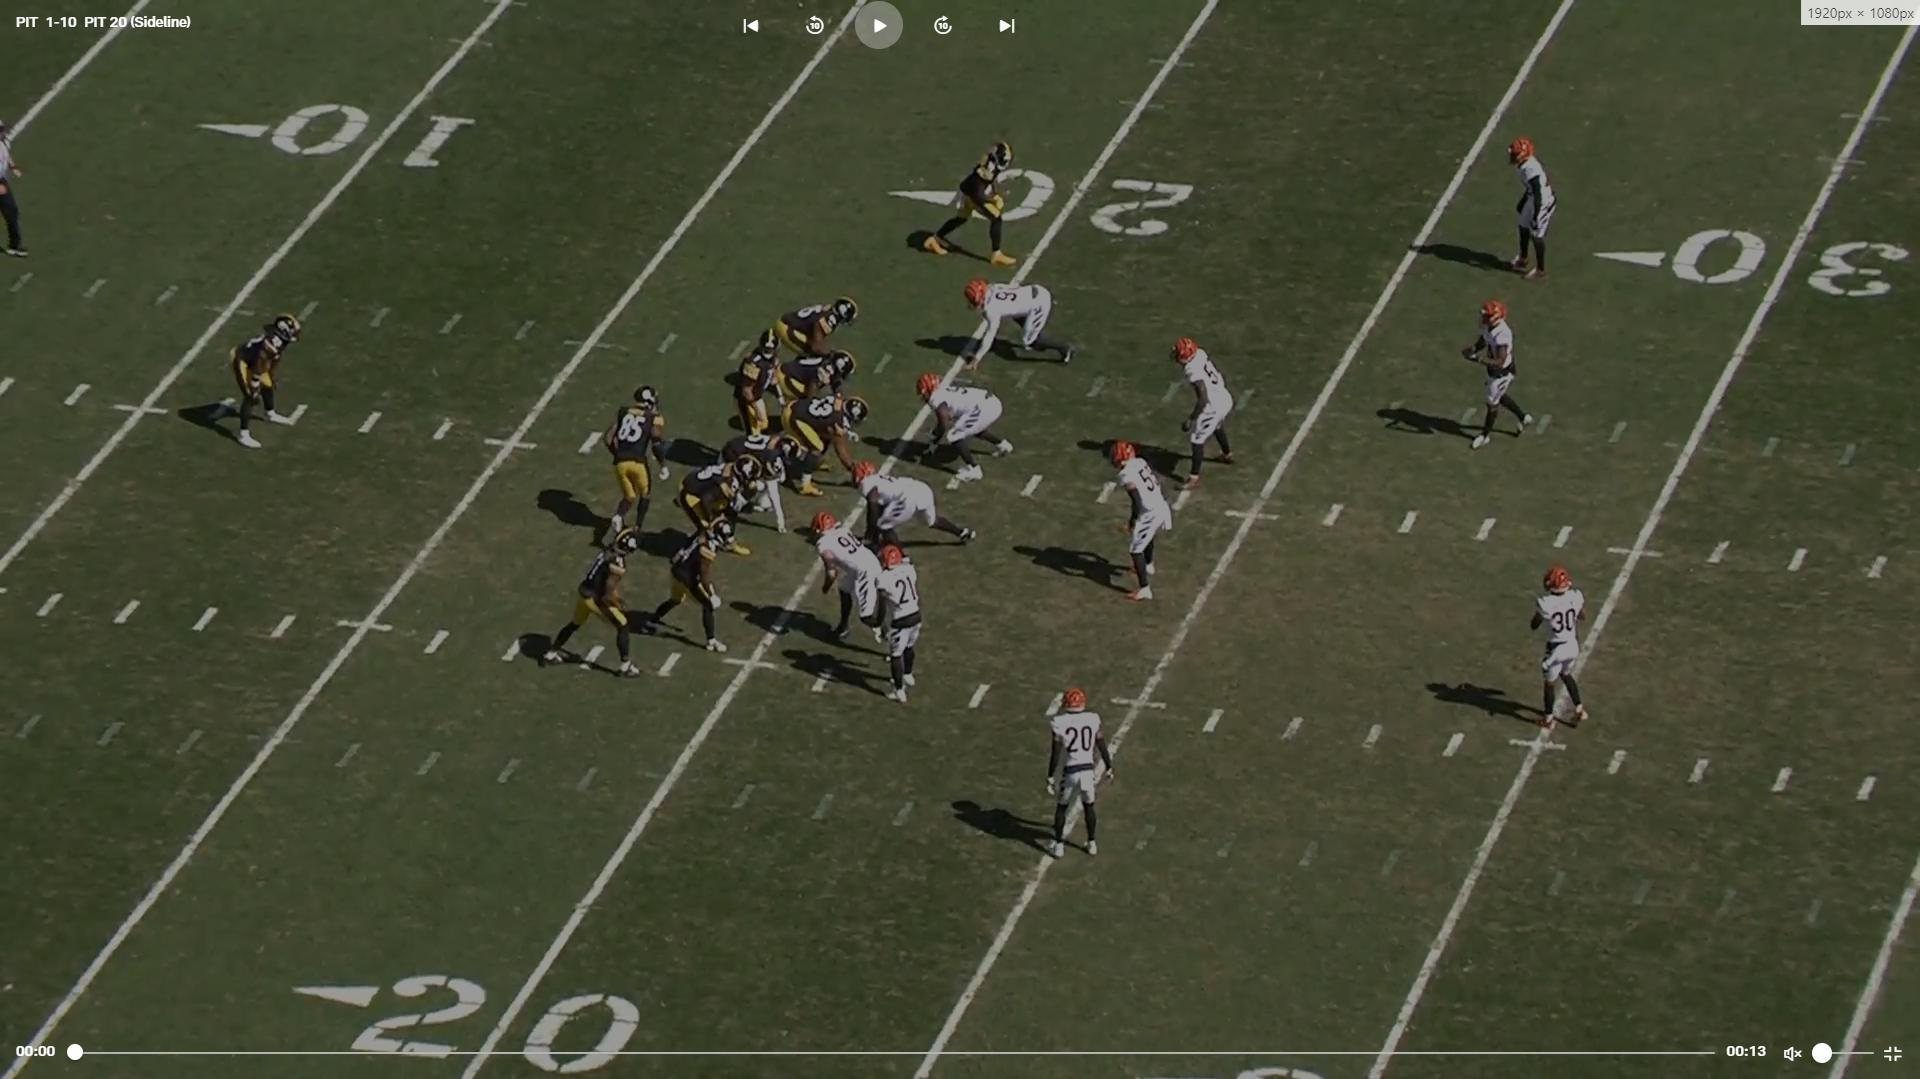defense: (1043, 685, 1116, 865), (1100, 438, 1170, 605), (849, 464, 969, 561), (961, 282, 1080, 376), (1465, 298, 1538, 451), (922, 367, 1021, 479), (1531, 566, 1596, 735), (807, 518, 885, 652), (868, 541, 928, 710), (1176, 335, 1242, 489), (1503, 139, 1560, 286)
oline: (790, 389, 877, 483), (675, 459, 760, 555), (719, 434, 807, 522), (770, 297, 861, 365), (779, 352, 861, 405)
qb: (721, 342, 787, 439)
ref: (0, 113, 34, 269)
skill: (535, 525, 645, 685), (928, 132, 1027, 269), (644, 520, 733, 663), (603, 383, 674, 553), (223, 310, 303, 452)
